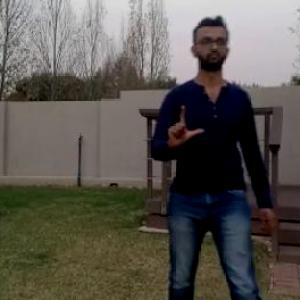land_hand: (163, 96, 214, 154)
